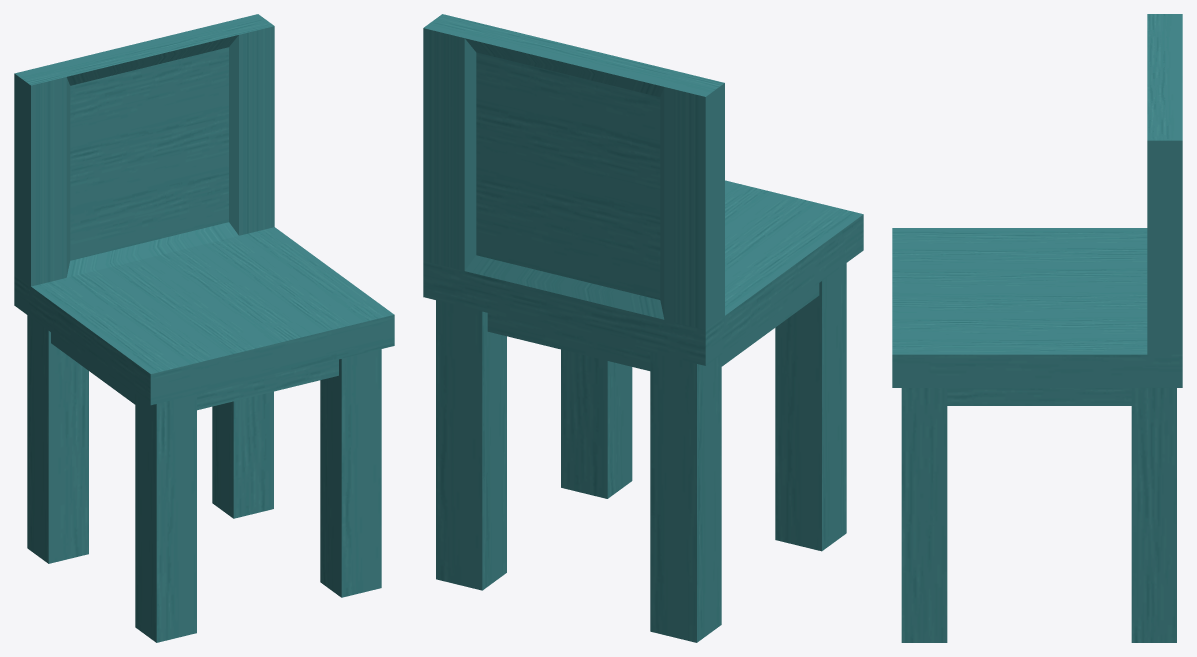
The model's file is Little_Chair_B.FBX.
3 renders of one model, left to right at view 1: azimuth 30°, elevation 25°; view 2: azimuth 150°, elevation 25°; view 3: azimuth 270°, elevation 25°, orthographic. The views are drawn at different scales.
Parts seen in each view (by area): view 1: Little_Chair; view 2: Little_Chair; view 3: Little_Chair.
Boxes of the visible parts, left/top/right/bottom form: Little_Chair: left=14, top=14, right=394, bottom=642; Little_Chair: left=423, top=14, right=863, bottom=642; Little_Chair: left=892, top=14, right=1182, bottom=642.
Size of the model in its own units: 58.74 by 109 by 56.91.
